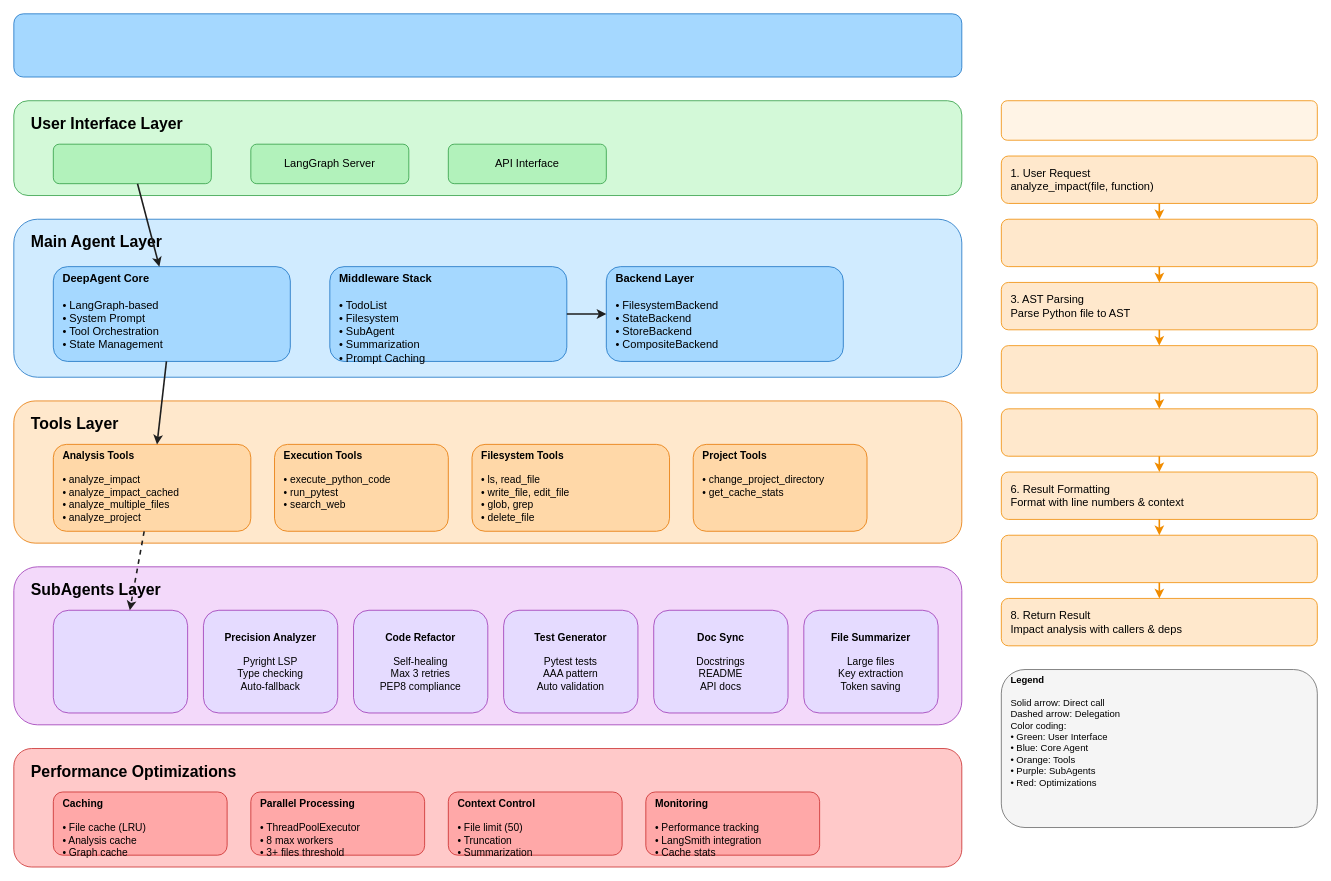
Image size: 1331x881. Some labels were removed from this diagram. The box of each missing label's shape, as (x1, y1, x2, y2) in pixels:
2. Cache Check Check file_cache & analysis_cache: (1001, 218, 1317, 267)
4. Graph Building Build call graph (callers/callees): (1001, 345, 1317, 393)
5. Dependency Analysis Find callers (depth ≤ 3) & dependencies: (1001, 408, 1317, 456)
7. Cache Store Store result in analysis_cache: (1001, 534, 1317, 583)
Analysis Flow (SPEED Mode): (1001, 100, 1317, 140)
CLI (run_cli.py): (53, 143, 211, 184)
DeepAgentic Code Assistant Architecture: (13, 13, 962, 77)
Speed Analyzer AST-based static analysis ~5s for 10K lines: (53, 609, 188, 713)
